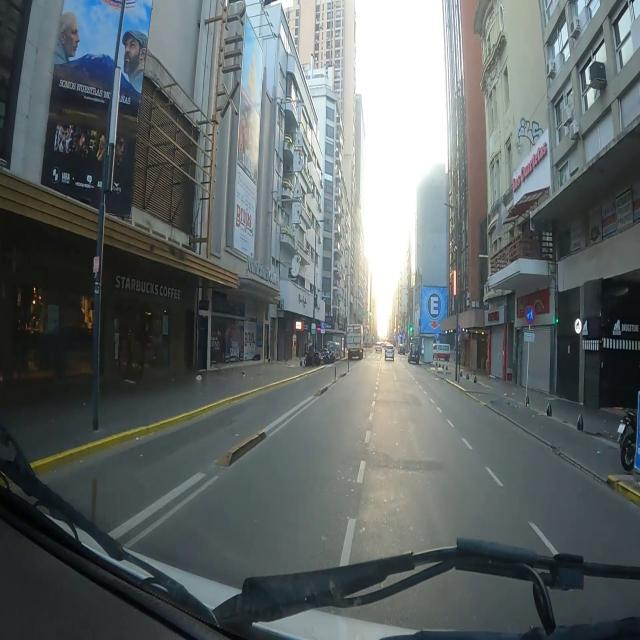car: (408, 343, 420, 364), (385, 345, 394, 360), (375, 342, 382, 354), (399, 344, 405, 355)
motorcycle: (618, 410, 637, 472)
